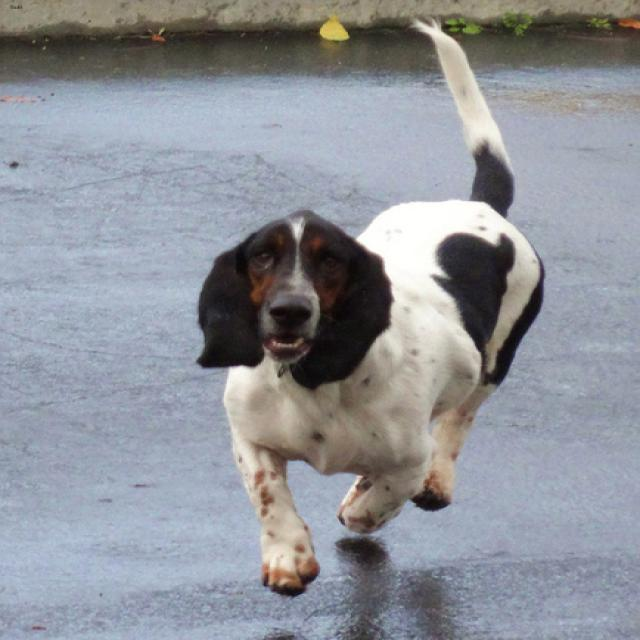dog-basset_hound: (183, 9, 553, 605)
